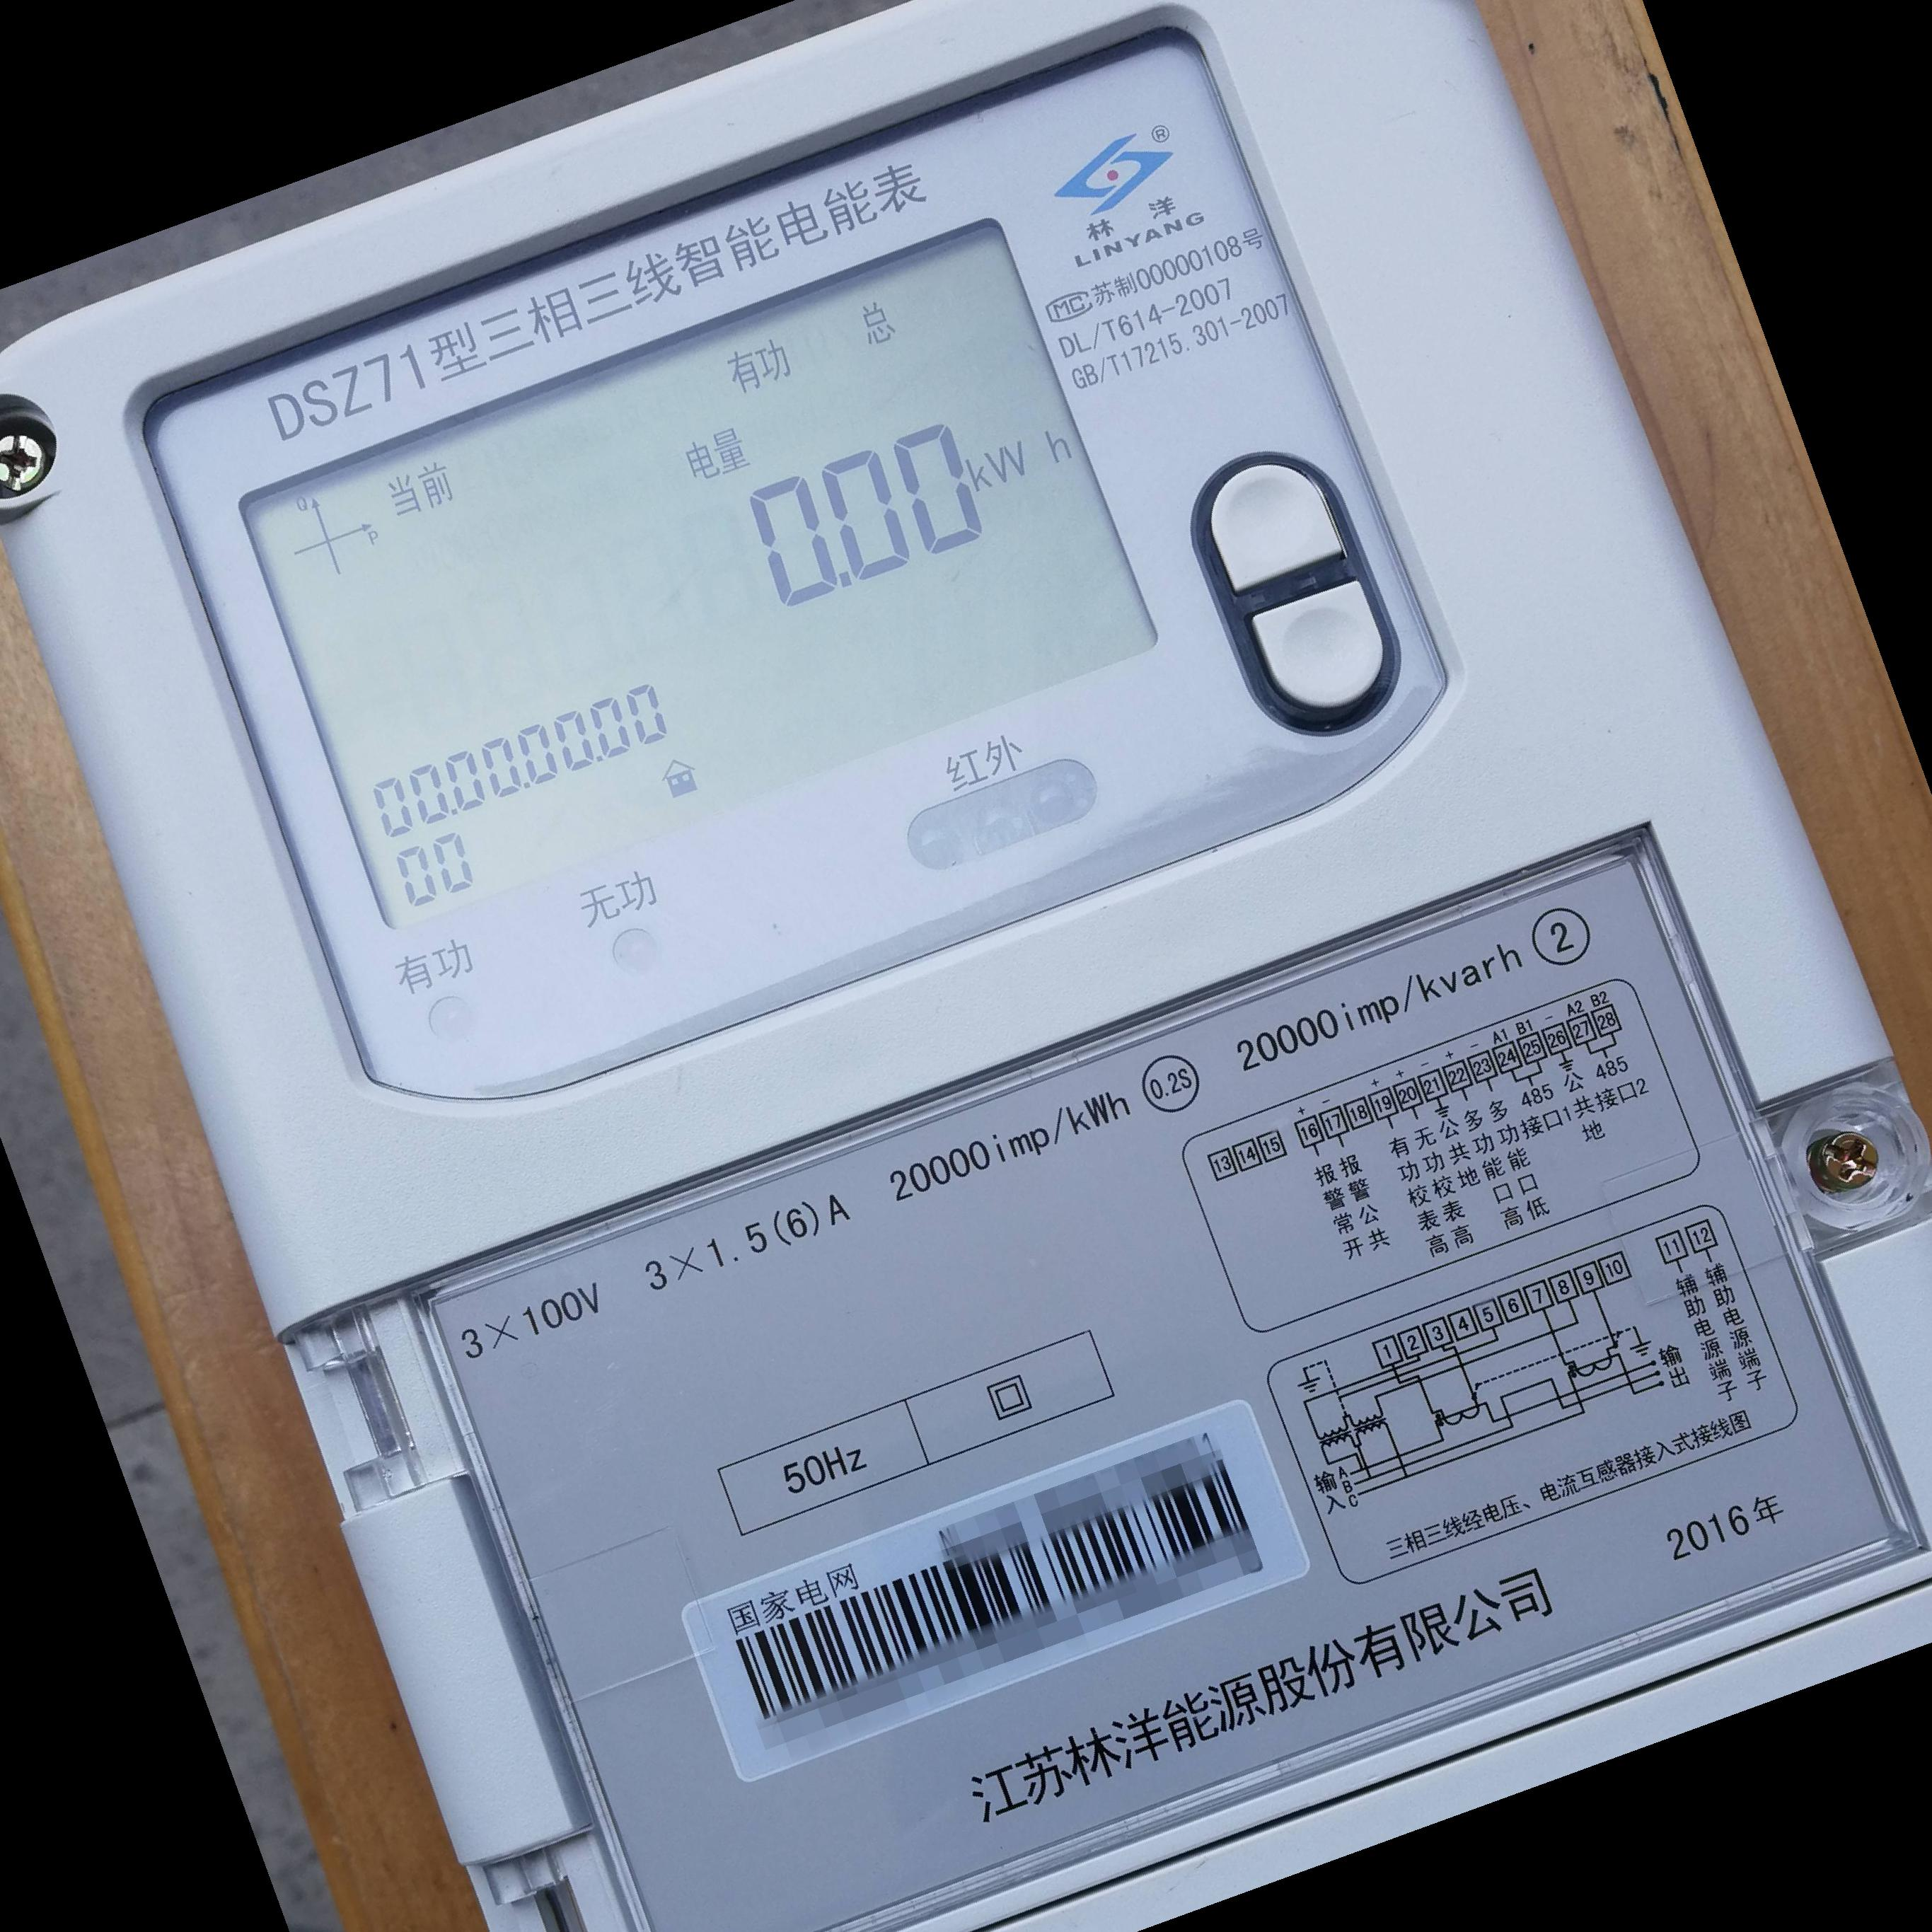digital: (0, 5, 1921, 1923)
